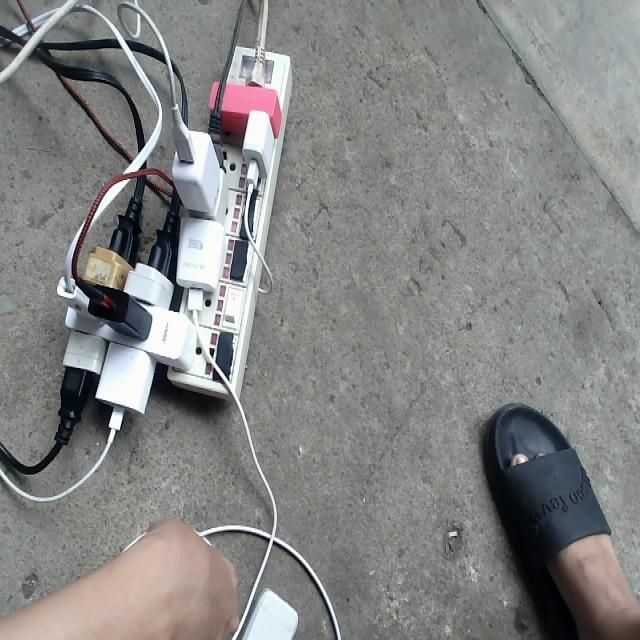-: (56, 46, 290, 446)
